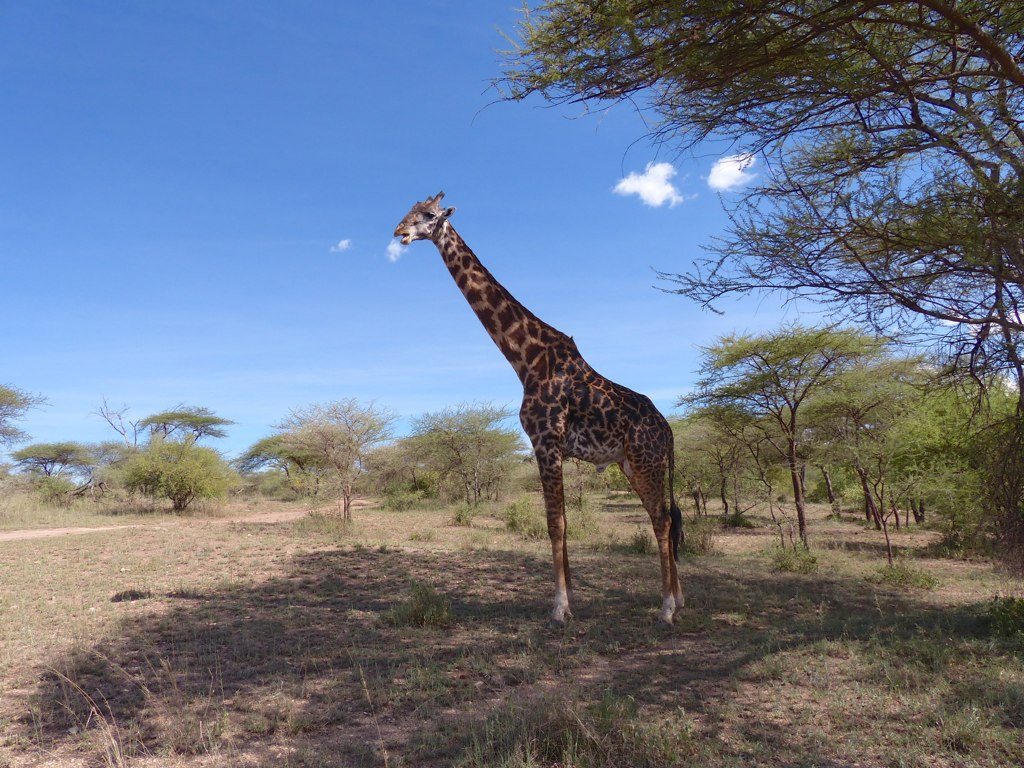giraffe: (373, 176, 732, 659)
